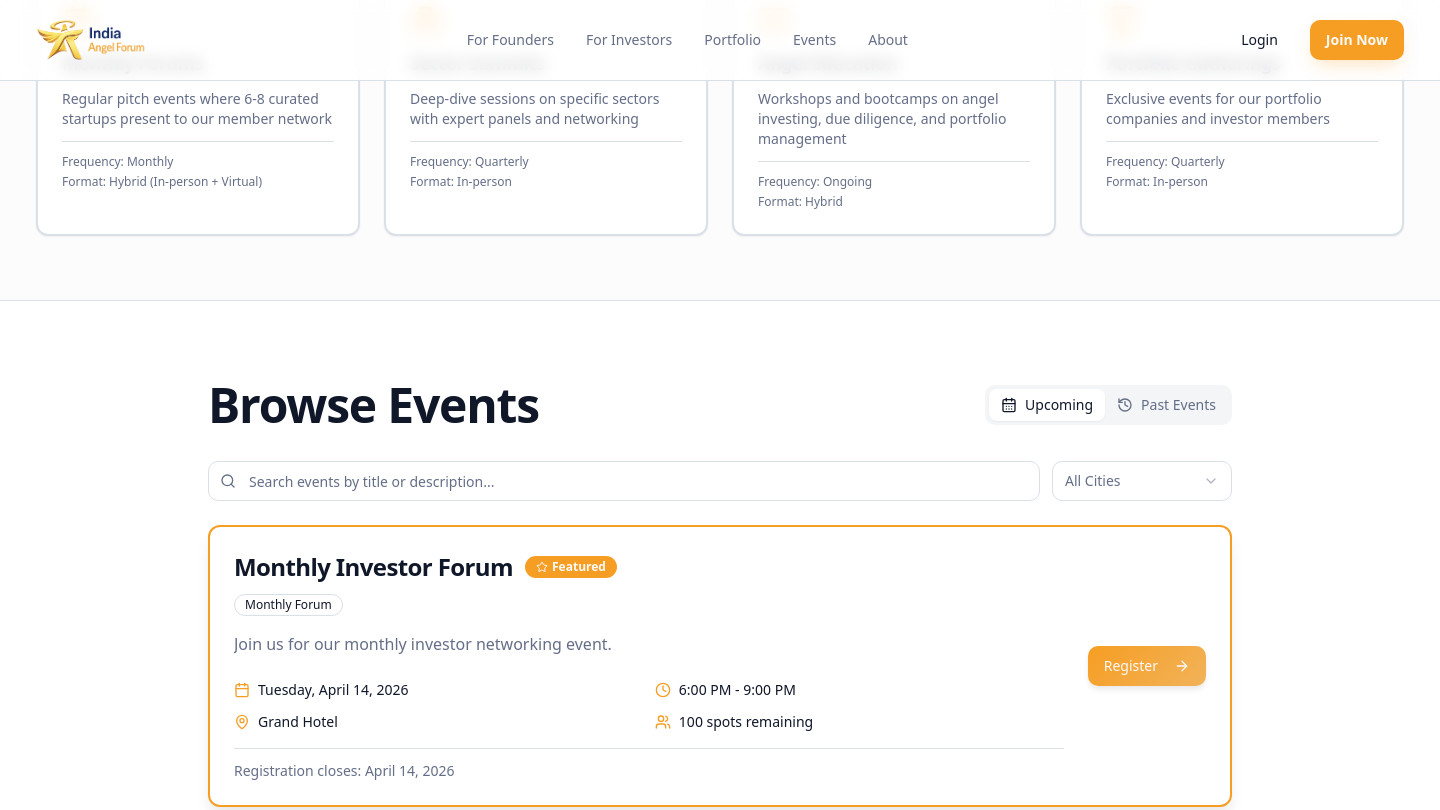
Scenario: Events Page › Tabs Navigation › should switch to past events when clicking past tab
The image size is (1440, 810).
(page scrolled)
Check: the heading "Monthly Investor Forum" is shown, box [234,551,513,583]
Click the tab "Past Events" at (1167, 405), box [1105,389,1228,421]
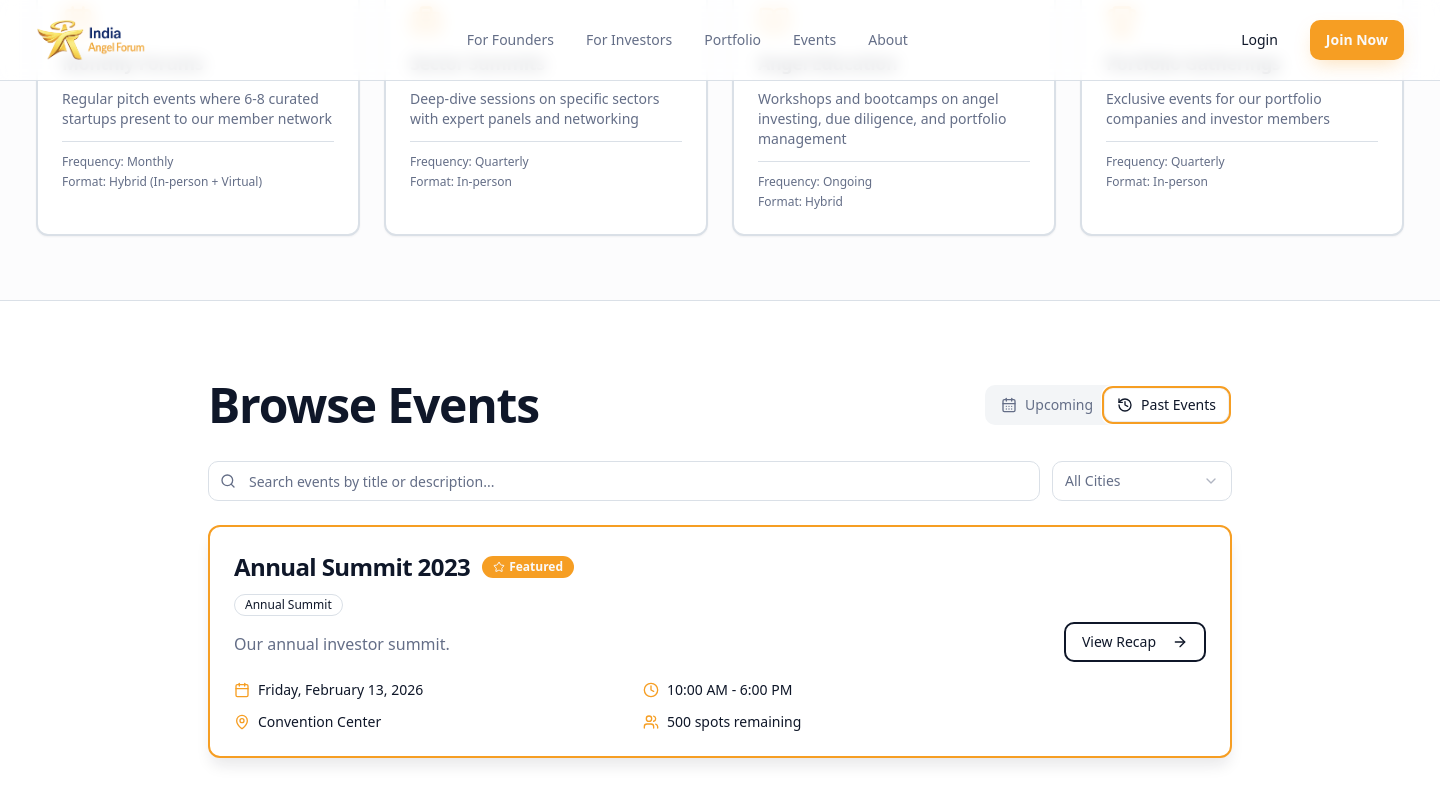
Check: the heading "Annual Summit 2023" is shown, box [234,551,470,583]
